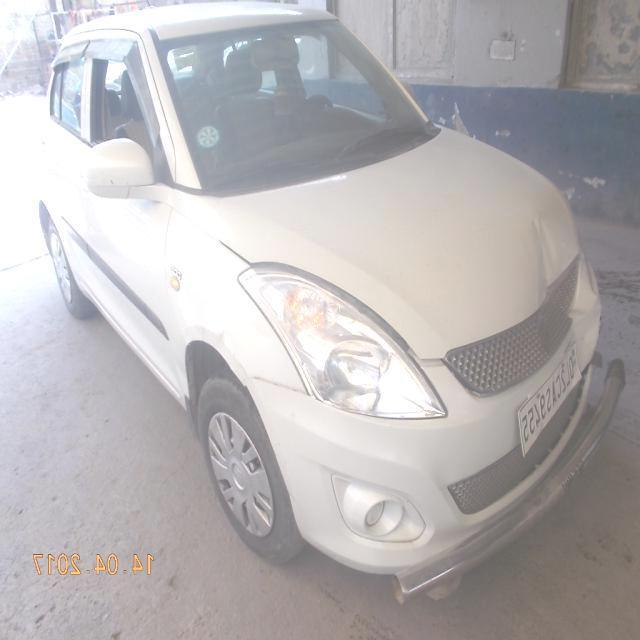minor: (522, 182, 600, 362)
